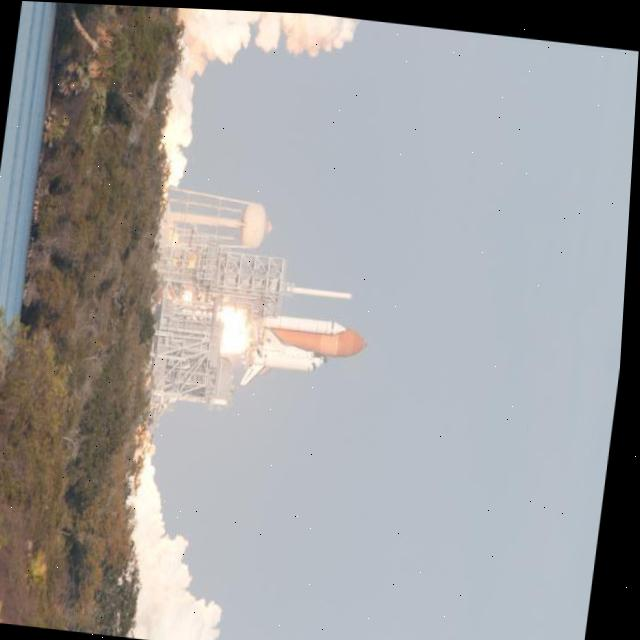missile: (239, 301, 372, 383)
